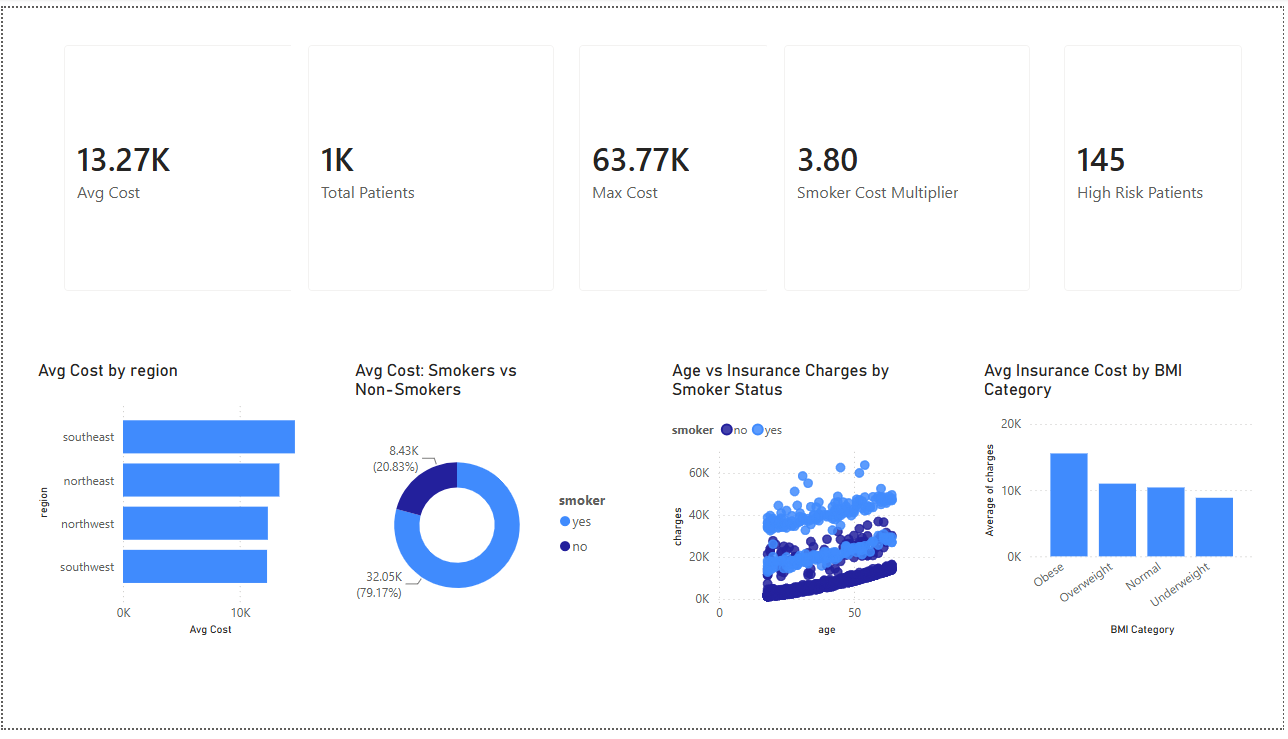

The page's visual inventory and layout, read from the dashboard file:
{"tool":"powerbi","page":{"name":"Insurance Cost Analysis","canvas":[1280,720],"ordinal":0},"visuals":[{"type":"clusteredBarChart","fields":{"Category":["insurance.region"],"Y":["insurance.Avg Cost"]},"box":[30.2,352.1,280,280],"z":0},{"type":"donutChart","title":"Avg Cost: Smokers vs Non-Smokers","fields":{"Category":["insurance.smoker"],"Y":["Avg(insurance.charges)","select"]},"box":[347.2,352.1,280,280],"z":1000},{"type":"scatterChart","title":"Age vs Insurance Charges by Smoker Status","fields":{"Series":["insurance.smoker"],"X":["insurance.age"],"Y":["insurance.charges"]},"box":[664.3,352.1,280,280],"z":2000},{"type":"clusteredColumnChart","title":"Avg Insurance Cost by BMI Category","fields":{"Category":["insurance.BMI Category"],"Y":["Avg(insurance.charges)"]},"box":[975.6,352.1,280,280],"z":3000},{"type":"cardVisual","fields":{"Data":["insurance.Avg Cost"]},"box":[43.8,20.4,280,280],"z":4000},{"type":"cardVisual","fields":{"Data":["insurance.Total Patients"]},"box":[287.9,20.4,280,280],"z":5000},{"type":"cardVisual","fields":{"Data":["insurance.Max Cost"]},"box":[559.3,20.4,224,280],"z":6000},{"type":"cardVisual","fields":{"Data":["insurance.Smoker Premium"]},"box":[763.5,20.4,280,280],"z":6001},{"type":"cardVisual","fields":{"Data":["insurance.High Risk Patients"]},"box":[1044,20,212,280],"z":6002}]}

Visuals, with their boxes in screenshot pixels (x1, y1, x2, y2), scaled from the page's 1280x720 canvas onto the 1288x739 screenshot:
clusteredBarChart - insurance.region x insurance.Avg Cost: box(30, 361, 312, 649)
"Avg Cost: Smokers vs Non-Smokers" donutChart: box(349, 361, 631, 649)
"Age vs Insurance Charges by Smoker Status" scatterChart: box(668, 361, 950, 649)
"Avg Insurance Cost by BMI Category" clusteredColumnChart: box(982, 361, 1263, 649)
cardVisual - insurance.Avg Cost: box(44, 21, 326, 308)
cardVisual - insurance.Total Patients: box(290, 21, 571, 308)
cardVisual - insurance.Max Cost: box(563, 21, 788, 308)
cardVisual - insurance.Smoker Premium: box(768, 21, 1050, 308)
cardVisual - insurance.High Risk Patients: box(1051, 21, 1264, 308)
